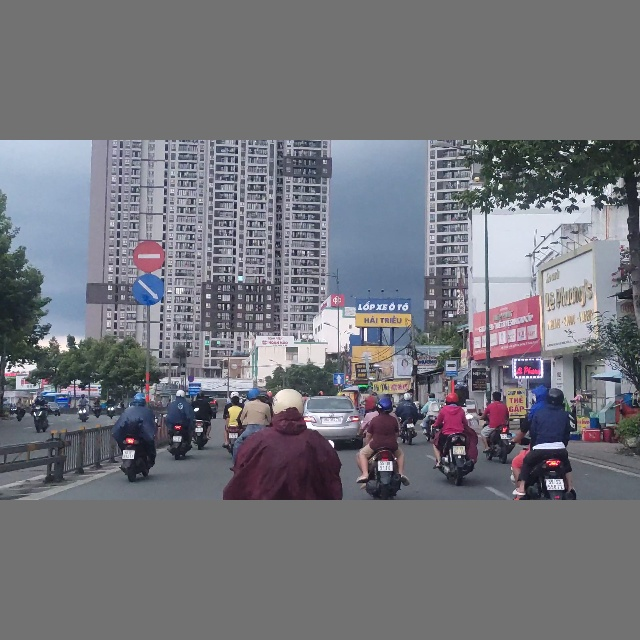I.407a: (334, 373, 345, 384)
I.434a: (445, 359, 458, 376)
P.102: (132, 240, 165, 273)
R.302a: (130, 273, 165, 306)
